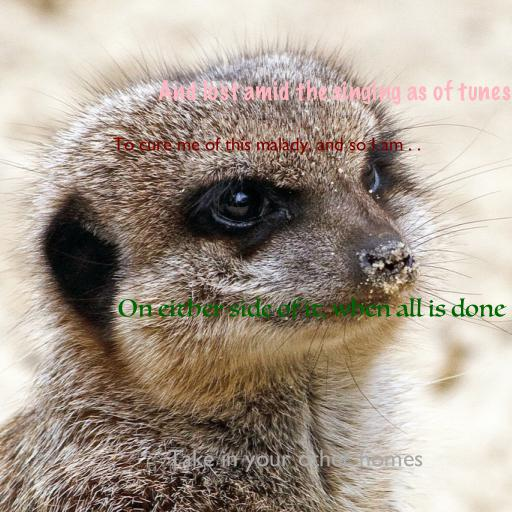Gill Sans: (167, 449, 423, 472), (113, 137, 421, 155)
Luminari: (117, 298, 505, 320)
Marker Felt: (157, 79, 511, 105)
